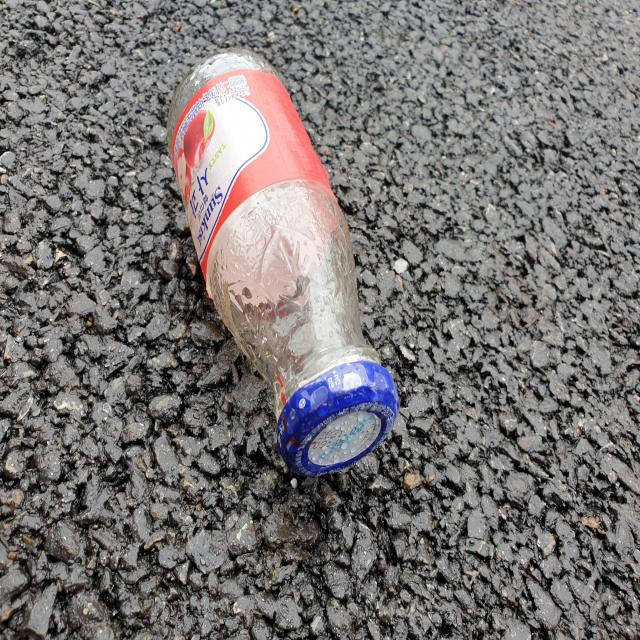glass: (167, 48, 400, 477)
